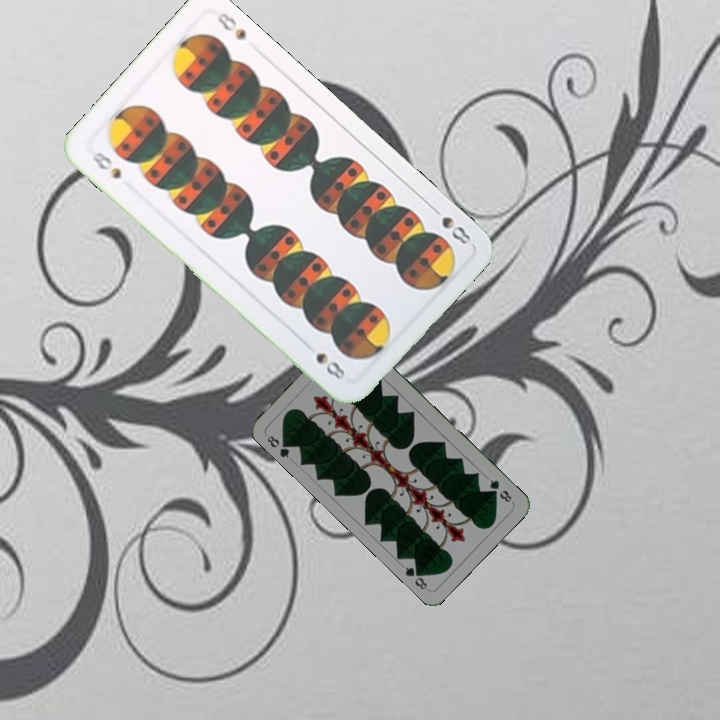G8: (263, 431, 294, 461), (485, 475, 514, 505)
S8: (426, 201, 474, 248), (84, 147, 124, 182)
